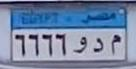6: (27, 34, 40, 55), (41, 34, 53, 56), (55, 33, 66, 56), (15, 34, 25, 58)
daal: (92, 36, 105, 55)
meem: (109, 33, 123, 56)
waw: (73, 34, 87, 54)
